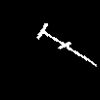double_crochet: (37, 24, 95, 65)
